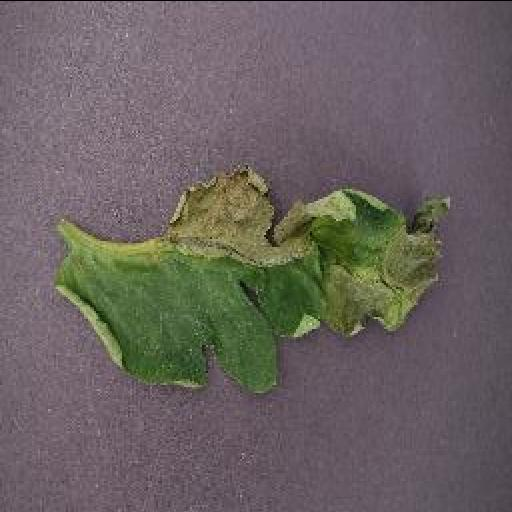disease_tomato: (58, 165, 456, 395)
